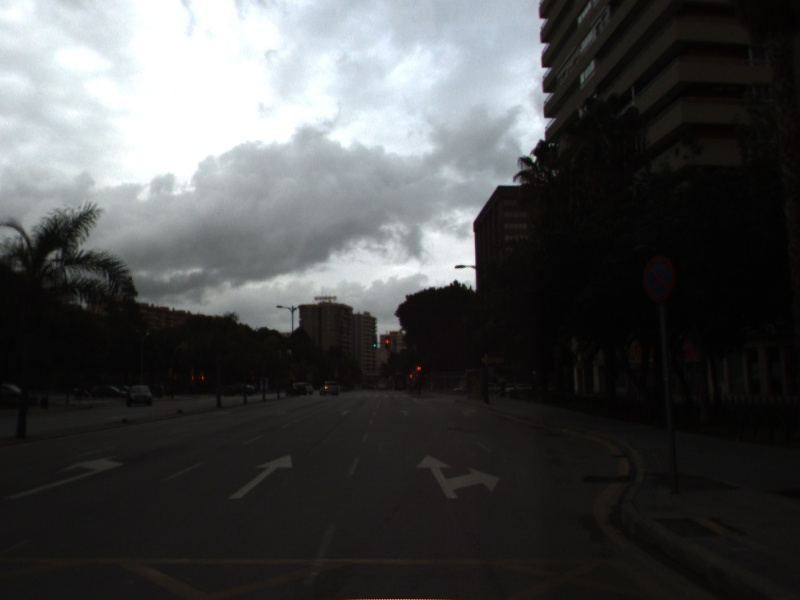LEFT: (3, 453, 126, 502)
STRAIGHT: (227, 452, 294, 501)
STRAIGHT_RIGHT: (414, 452, 502, 501)
